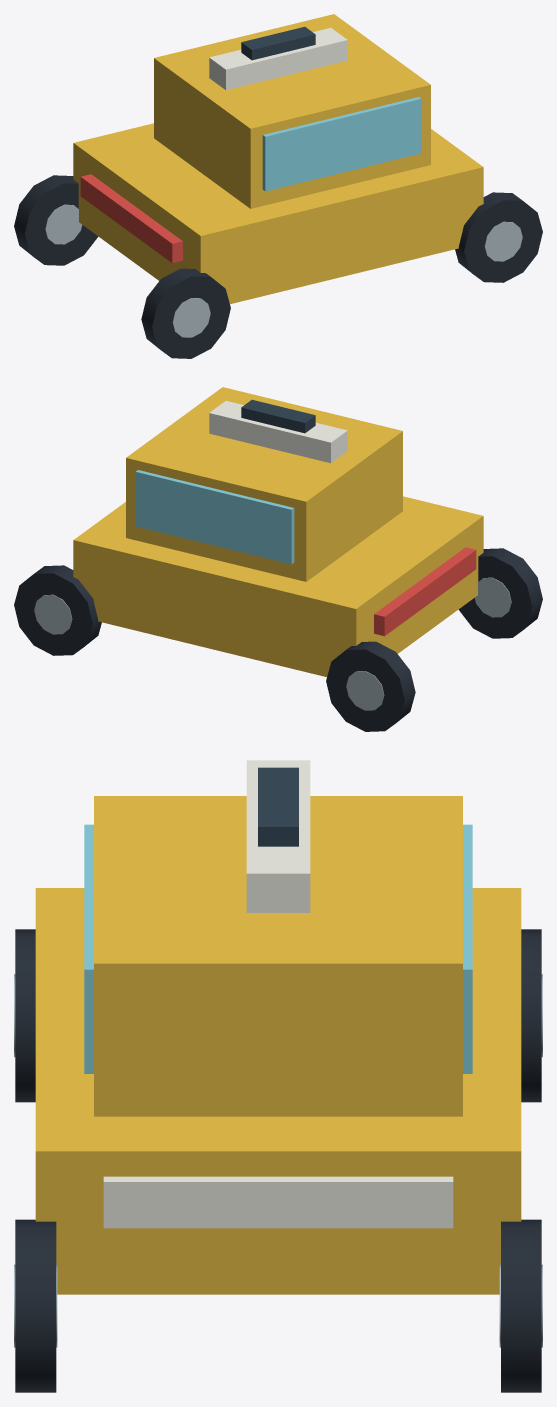
3 views of the same model, one above another, from view 1: azimuth 30°, elevation 25°; view 2: azimuth 150°, elevation 25°; view 3: azimuth 270°, elevation 25° (orthographic). The views are drawn at different scales.
Visible parts, largest first — view 1: car-body, cab, wheel (×3), windshield, taxi-sign, hub (×3), tail-lights, taxi-sign-text; view 2: car-body, cab, wheel (×3), windshield, taxi-sign, hub (×3), tail-lights, taxi-sign-text; view 3: cab, car-body, wheel (×4), headlights, taxi-sign, windshield, taxi-sign-text.
Part boxes in pixels (x1,y1,x2,y2): car-body: (73,123,483,303); cab: (154,14,430,208); wheel (×3): (14,175,542,358); windshield: (262,97,421,191); taxi-sign: (209,28,347,90); hub (×3): (45,204,522,337); tail-lights: (80,174,182,263); taxi-sign-text: (241,26,315,60); car-body: (73,496,483,676); cab: (126,387,402,581); wheel (×3): (14,548,542,731); windshield: (135,470,294,564); taxi-sign: (209,401,347,463); hub (×3): (34,577,511,710); tail-lights: (374,547,476,636); taxi-sign-text: (241,399,315,433); cab: (94,796,462,1116); car-body: (35,888,521,1294); wheel (×4): (15,929,541,1392); headlights: (103,1176,453,1228); taxi-sign: (246,760,310,912); windshield: (84,824,472,1073); taxi-sign-text: (258,767,298,846).
Bounding box in the file's own units: 3.37 × 1.91 × 2.07.
